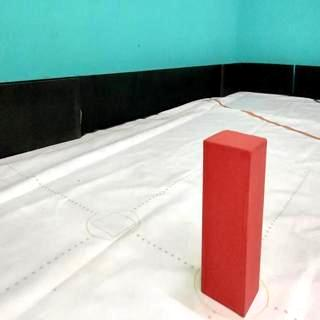redbox: (203, 127, 266, 320)
